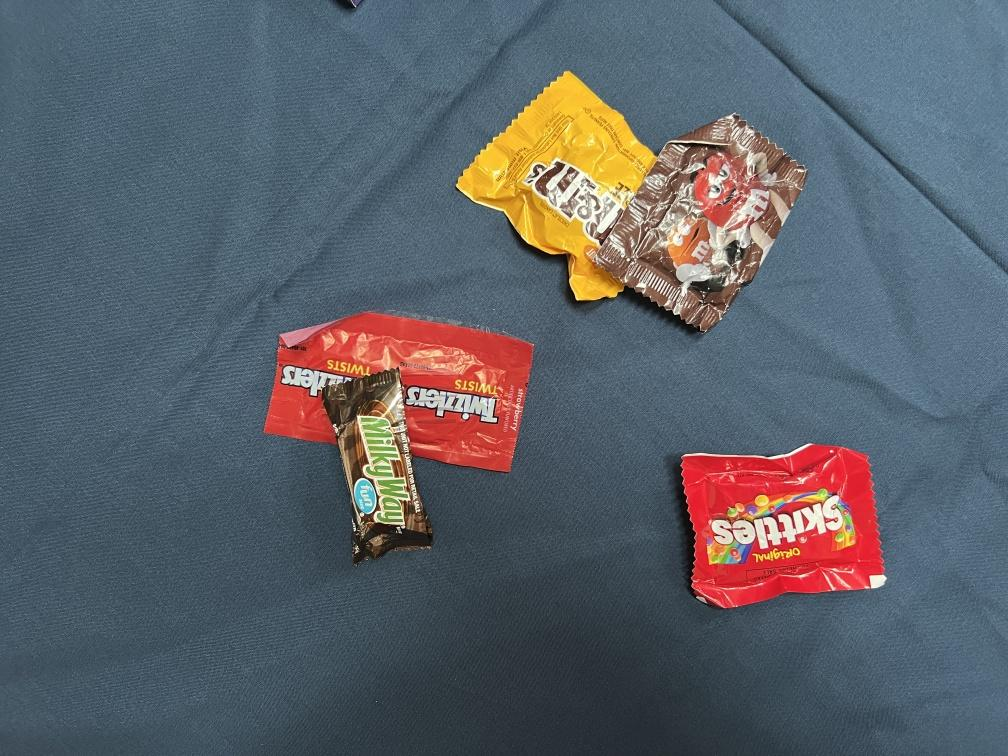MM_regular: (603, 108, 809, 341)
MM_yellow: (443, 60, 669, 310)
milky_way: (289, 350, 454, 571)
skittles: (666, 434, 904, 616)
twizzlers: (254, 300, 543, 486)
